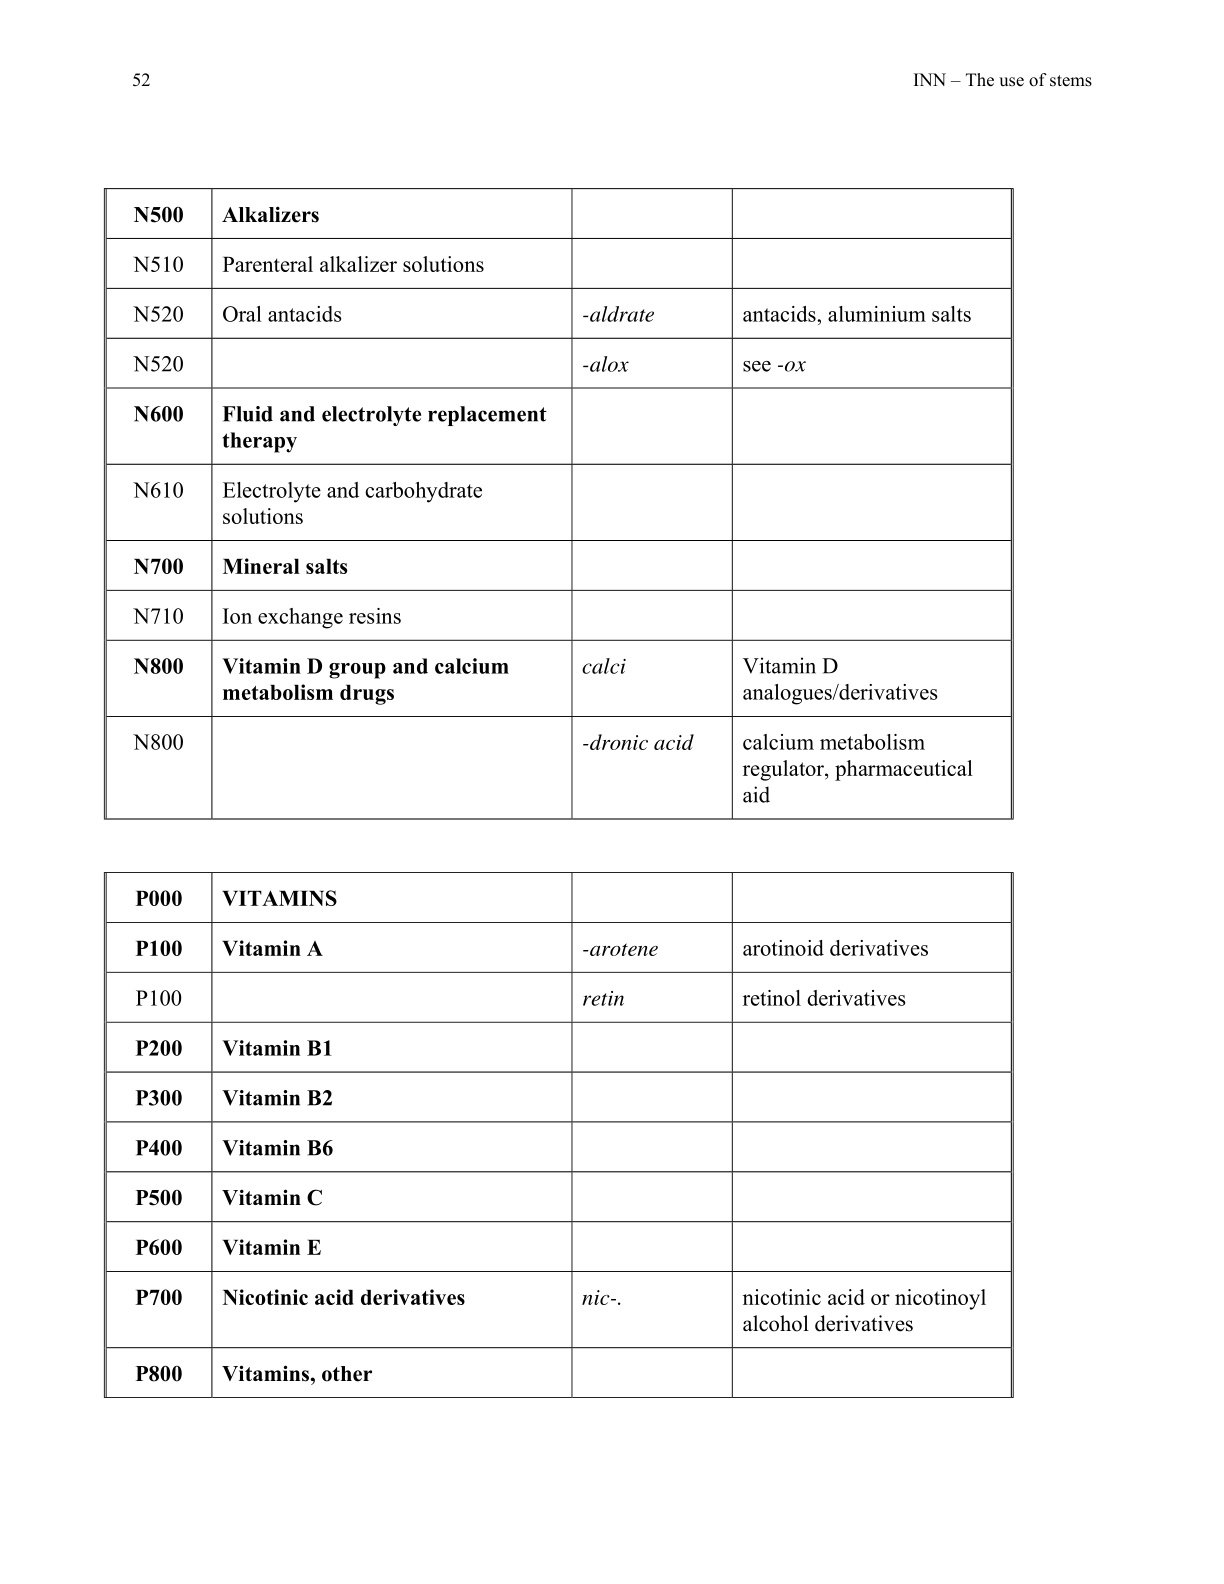full_lined: (104, 186, 1014, 822), (104, 870, 1014, 1400)
